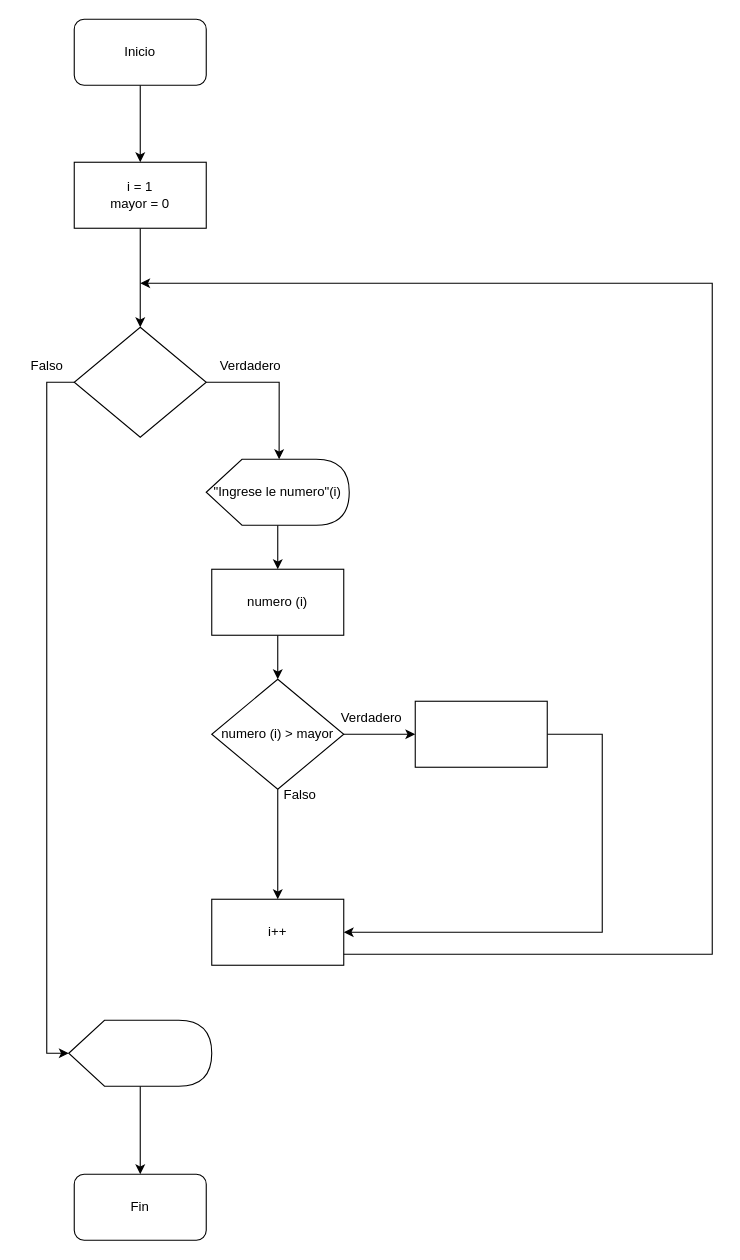
The diagram is 740 pixels wide and 1260 high, and some of its shapes have lost their labels. The shapes that lost their labels are listed below. From the top down, each one's centre as x and y in pixels, then its label:
point 139,381: i =<5
point 480,733: mayor = numero (i)
point 140,1052: "el mayor de los numeros es" mayor
